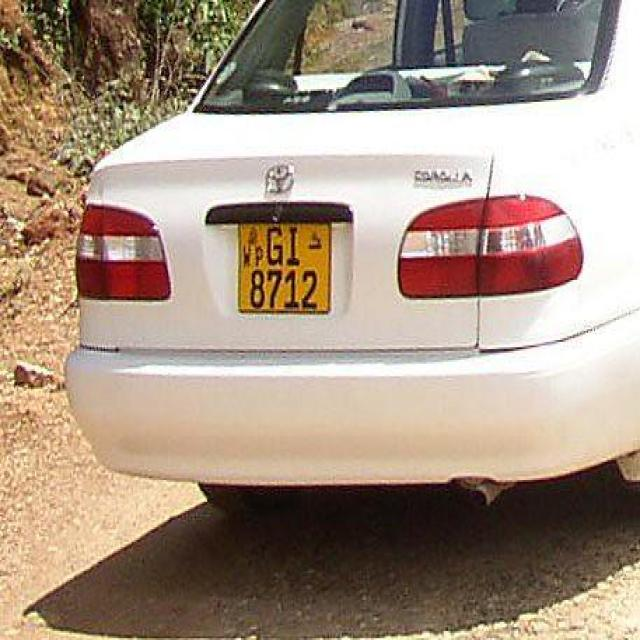license-plate: (235, 222, 329, 311)
